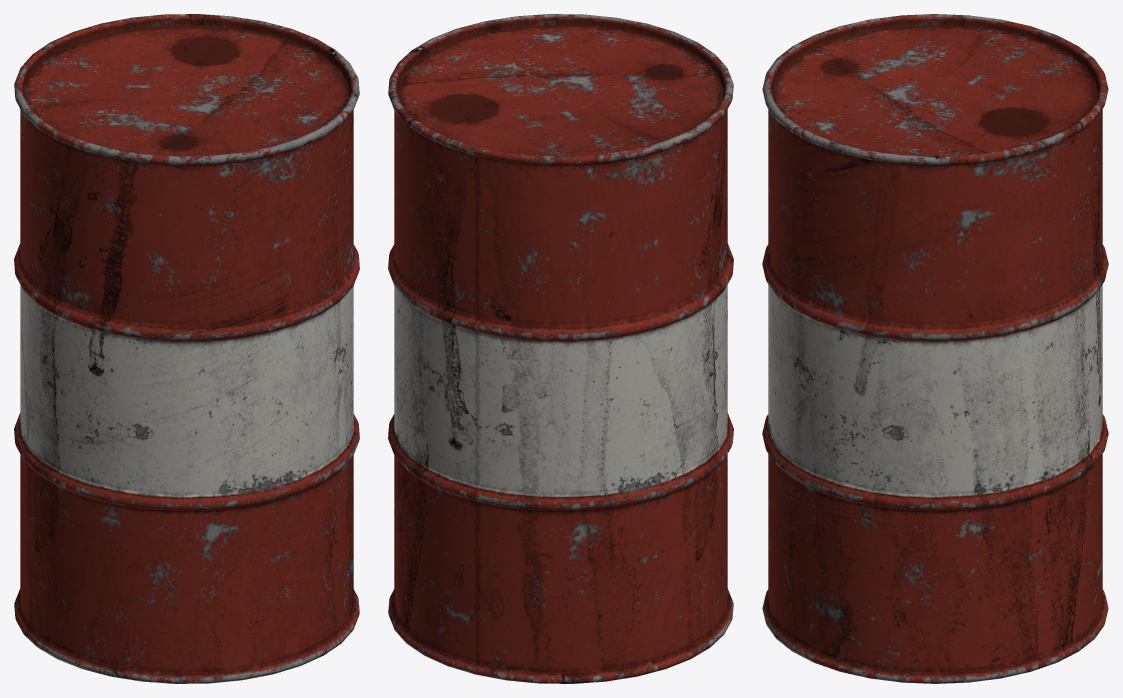
File: Barrel_5.glb
3 renders of one model, left to right at view 1: azimuth 30°, elevation 25°; view 2: azimuth 150°, elevation 25°; view 3: azimuth 270°, elevation 25°, orthographic.
Visible parts, largest first — view 1: Barrel3_low_Metal3_0; view 2: Barrel3_low_Metal3_0; view 3: Barrel3_low_Metal3_0.
Part boxes in pixels (x1,y1,x2,y2): Barrel3_low_Metal3_0: [14, 14, 359, 683]; Barrel3_low_Metal3_0: [388, 14, 733, 683]; Barrel3_low_Metal3_0: [762, 14, 1108, 683].
Size of the model in its own units: 0.412 by 0.6896 by 0.412.
Materials: 1 (1 with a texture image).
